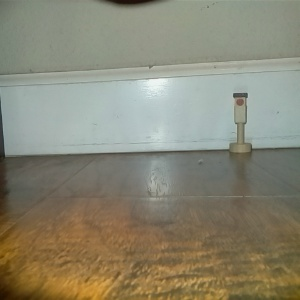traffic light red: (227, 91, 253, 154)
